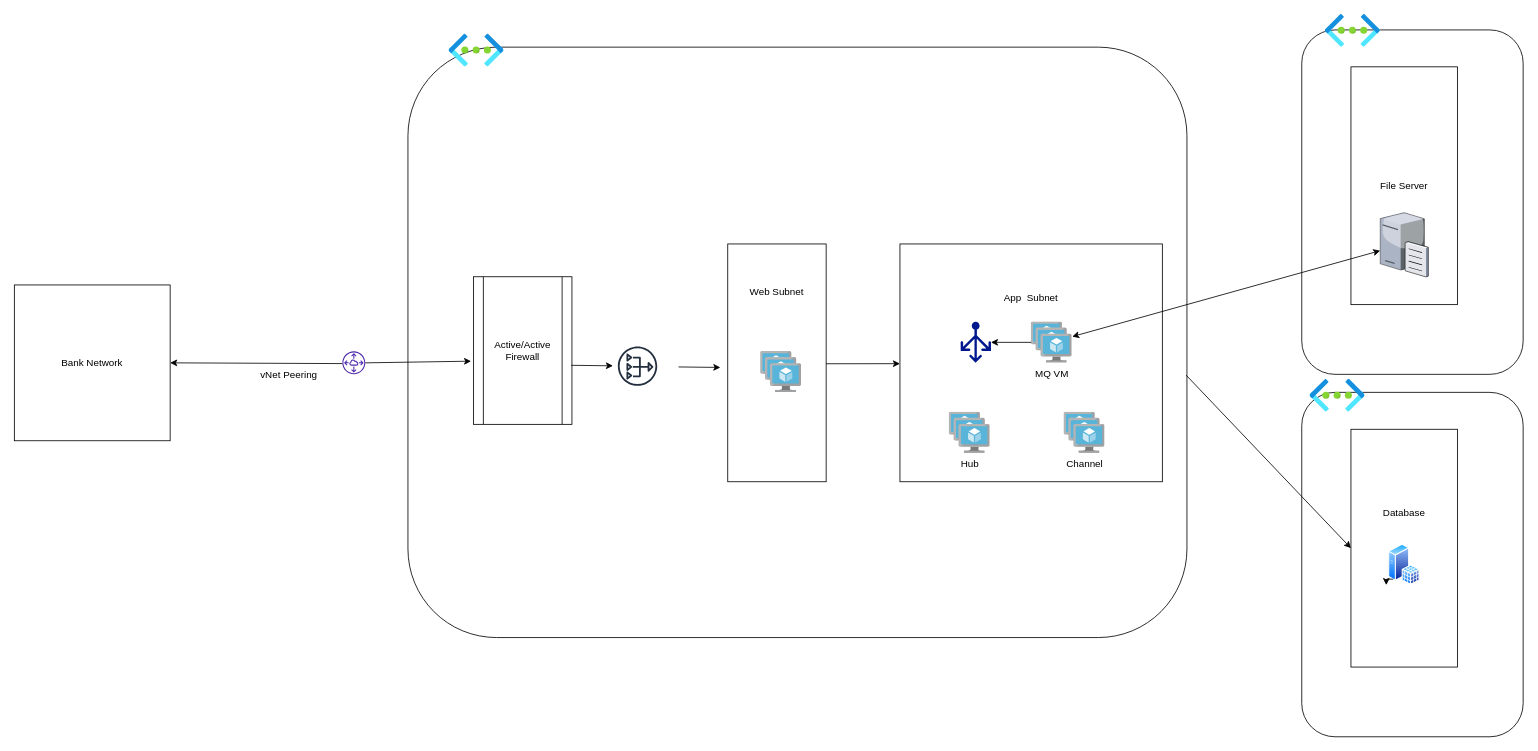
Image size: 1538x751. Some labels were removed from this diagram. The centre of each missing label's shape, as x and y in pixels:
"App Gateway" belongs at pixel 637 366.
"Managed SQL Server" belongs at pixel 1404 564.
"MQ LB" belongs at pixel 975 341.
"Volpay UI/Rest" belongs at pixel 780 371.
